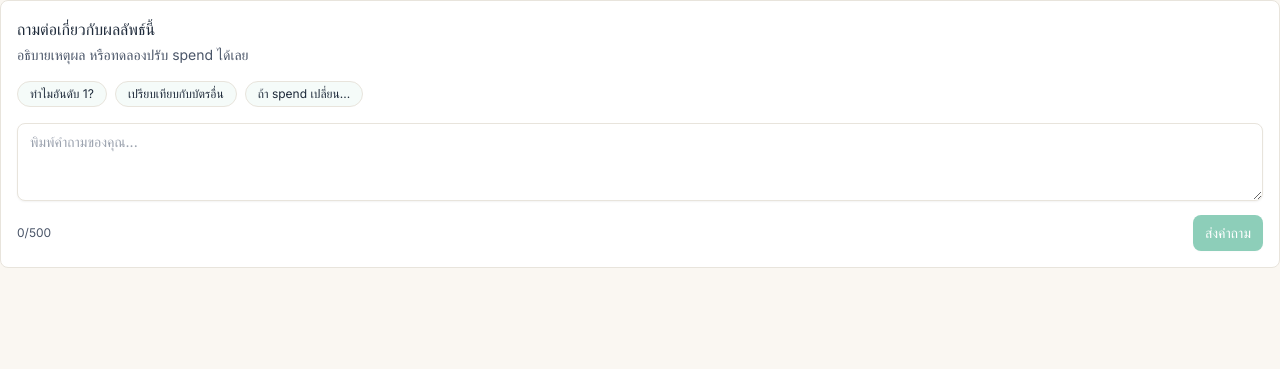
Scenario: ChatPanel › disables input and shows the rate-limit banner when the server returns 429
In the text box with placeholder "พิมพ์คำถามของคุณ...": (640, 162) top-left (17, 123), bottom-right (1263, 201), type "ถามเยอะไปมั้ย"
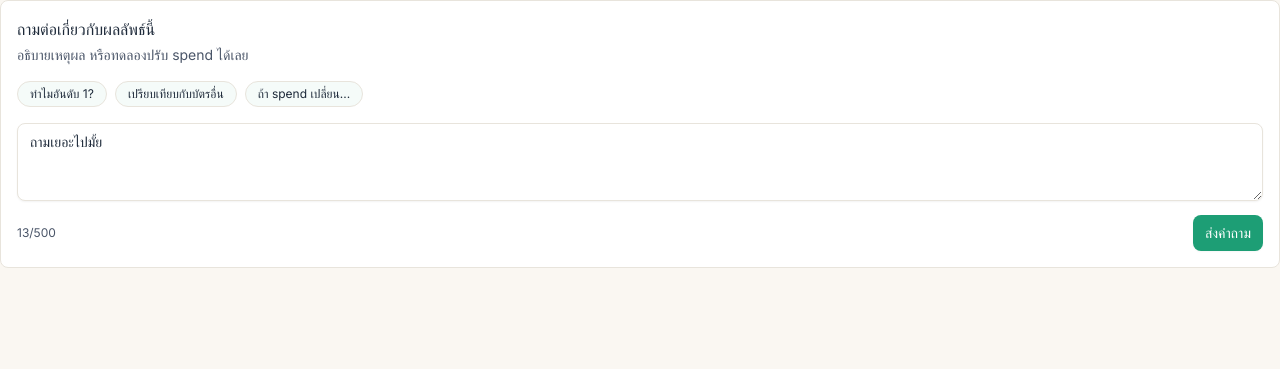
Click the button "ส่งคำถาม": click(1228, 233) top-left (1193, 215), bottom-right (1263, 251)
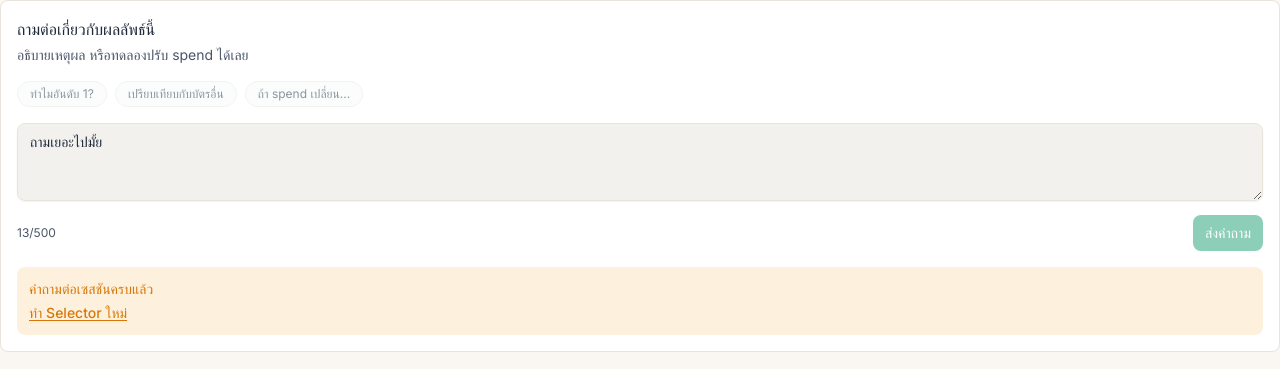
Check: the text box with placeholder "พิมพ์คำถามของคุณ..." is disabled, box top-left (17, 123), bottom-right (1263, 201)
Check: the text "คำถามต่อเซสชันครบแล้ว" is shown, box top-left (29, 280), bottom-right (153, 297)
